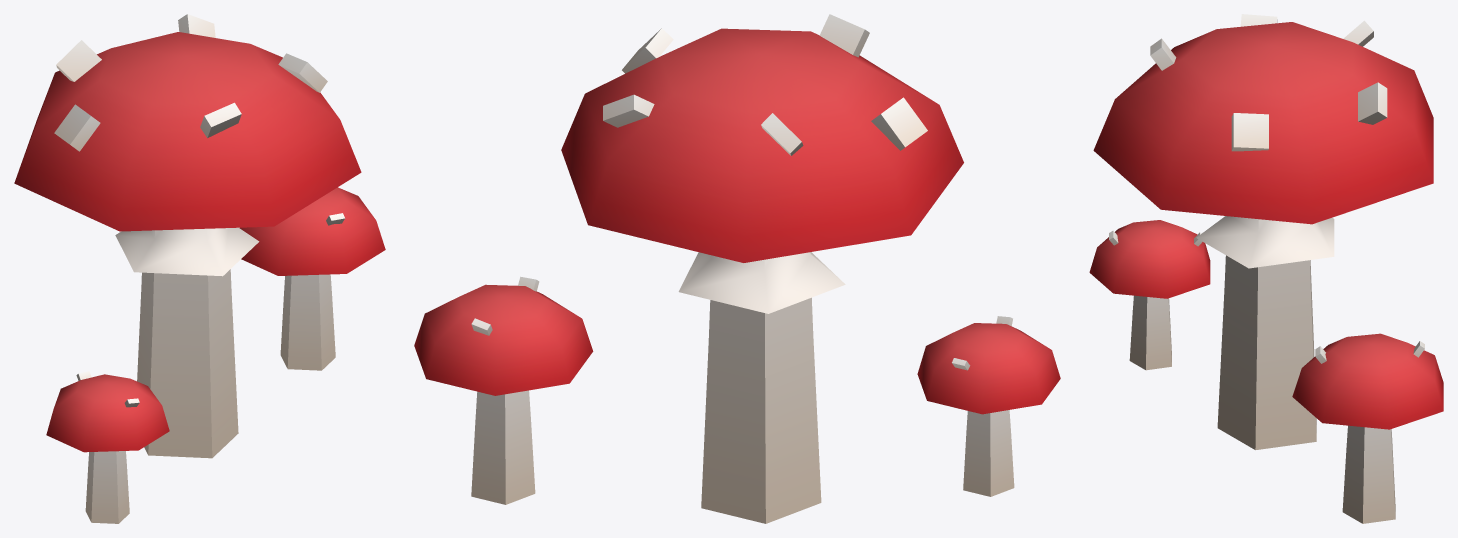
File: mushrooms_B.fbx
3 renders of one model, left to right at view 1: azimuth 30°, elevation 25°; view 2: azimuth 150°, elevation 25°; view 3: azimuth 270°, elevation 25°, orthographic. The views are drawn at different scales.
Visible parts, largest first — view 1: mushrooms_B; view 2: mushrooms_B; view 3: mushrooms_B.
Part boxes in pixels (left/top/right/bottom): mushrooms_B: left=14, top=14, right=385, bottom=523; mushrooms_B: left=414, top=14, right=1060, bottom=523; mushrooms_B: left=1089, top=14, right=1443, bottom=523.
Bounding box in the file's own units: 0.4378 × 0.3713 × 0.3116.
Materials: 1 (1 with a texture image).
